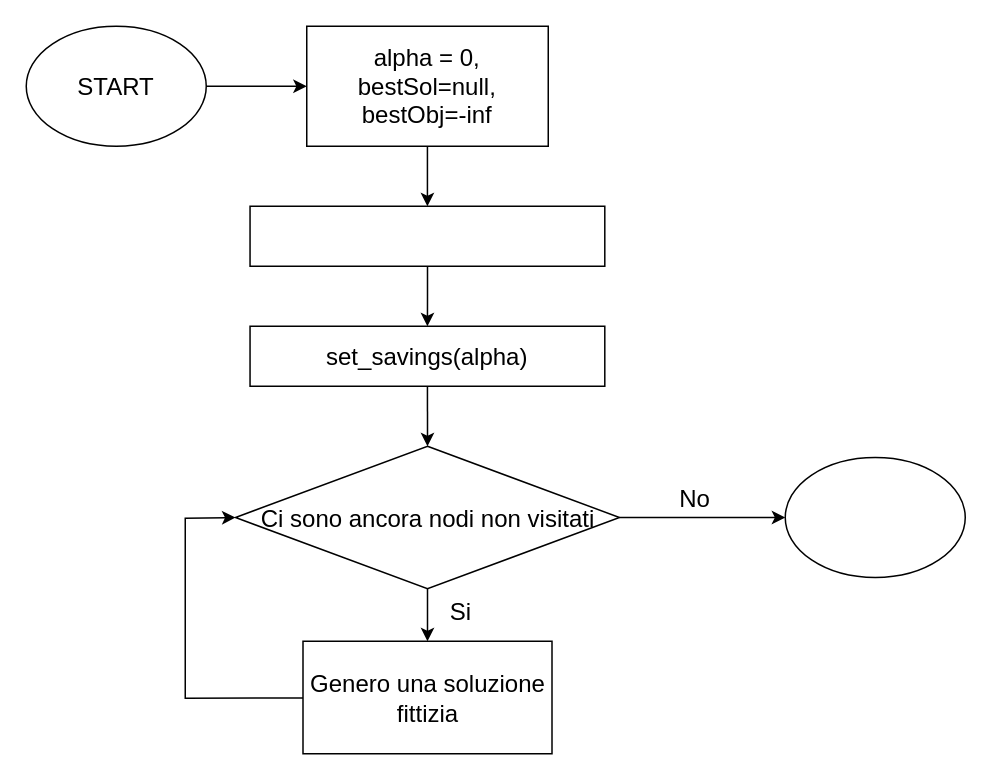
Image size: 992x780. Some labels were removed from this diagram. The shapes that lost their labels are listed below. From the top down, each one's centre as x and y in pixels, then its label:
At pixel 427 235: "alpha = alpha_optimisation".
At pixel 874 517: "END".
